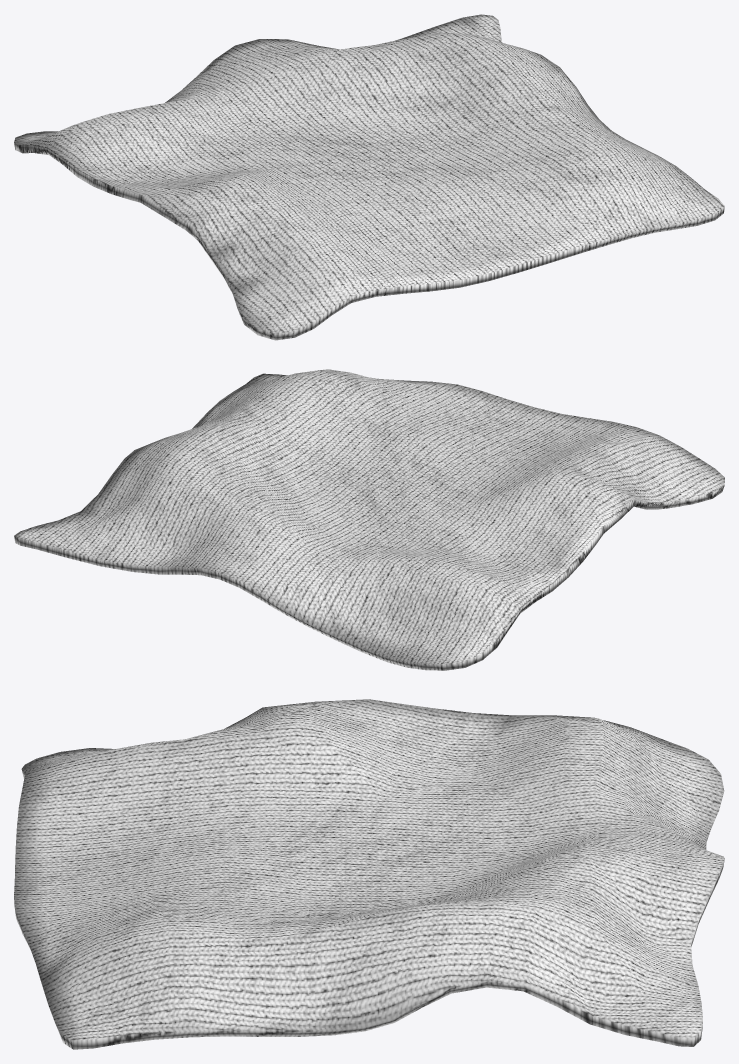
The model's file is cloth.fbx.
3 renders of one model, top to bottom at view 1: azimuth 30°, elevation 25°; view 2: azimuth 150°, elevation 25°; view 3: azimuth 270°, elevation 25°, orthographic. The views are drawn at different scales.
Visible parts, largest first — view 1: Cloth; view 2: Cloth; view 3: Cloth.
Boxes of the visible parts, <box> form: Cloth: <box>14,14,724,340</box>; Cloth: <box>14,369,724,670</box>; Cloth: <box>14,699,724,1049</box>.
Size of the model in its own units: 514 by 88.9 by 510.
1 material, 1 textured.
